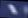Squash-Ball: (0, 1, 28, 18)
